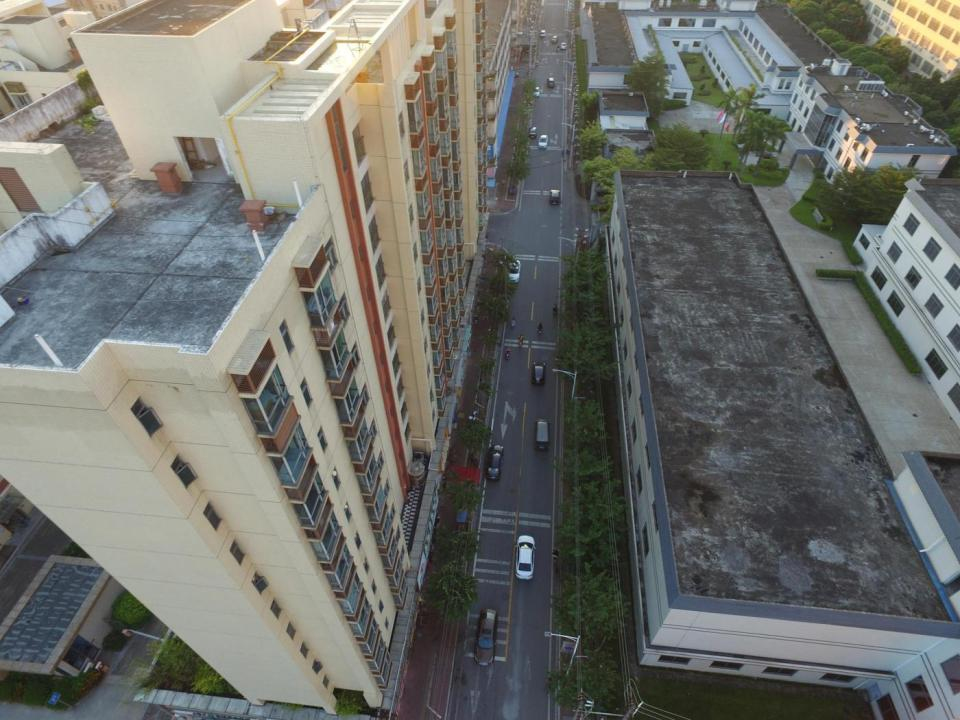car: (473, 608, 497, 666), (514, 534, 537, 580), (484, 444, 505, 482), (530, 361, 547, 386), (508, 258, 521, 284), (549, 189, 561, 205), (537, 134, 548, 149), (528, 126, 537, 139), (532, 86, 540, 98), (539, 30, 546, 37), (551, 36, 558, 43), (560, 42, 566, 49)
van: (533, 418, 551, 451), (546, 77, 556, 88)
